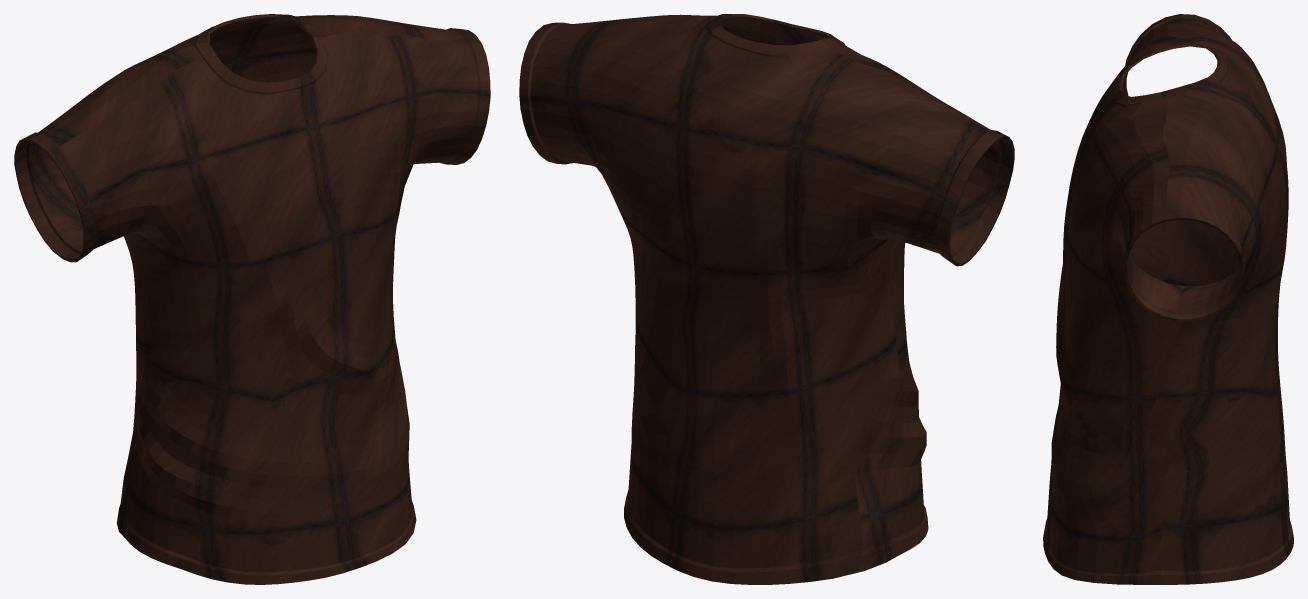
The model's file is Tshirt_fbx.fbx.
The picture shows the model from 3 angles, left to right: view 1: azimuth 30°, elevation 25°; view 2: azimuth 150°, elevation 25°; view 3: azimuth 270°, elevation 25°; orthographic projection. The views are drawn at different scales.
Visible parts, largest first — view 1: Tshirt_obj; view 2: Tshirt_obj; view 3: Tshirt_obj.
Part boxes in pixels (x1,y1,x2,y2): Tshirt_obj: (14, 14, 490, 584); Tshirt_obj: (519, 14, 1014, 584); Tshirt_obj: (1043, 14, 1293, 584).
Bounding box in the file's own units: 3093 × 3325 × 1585.
1 material, 1 textured.
